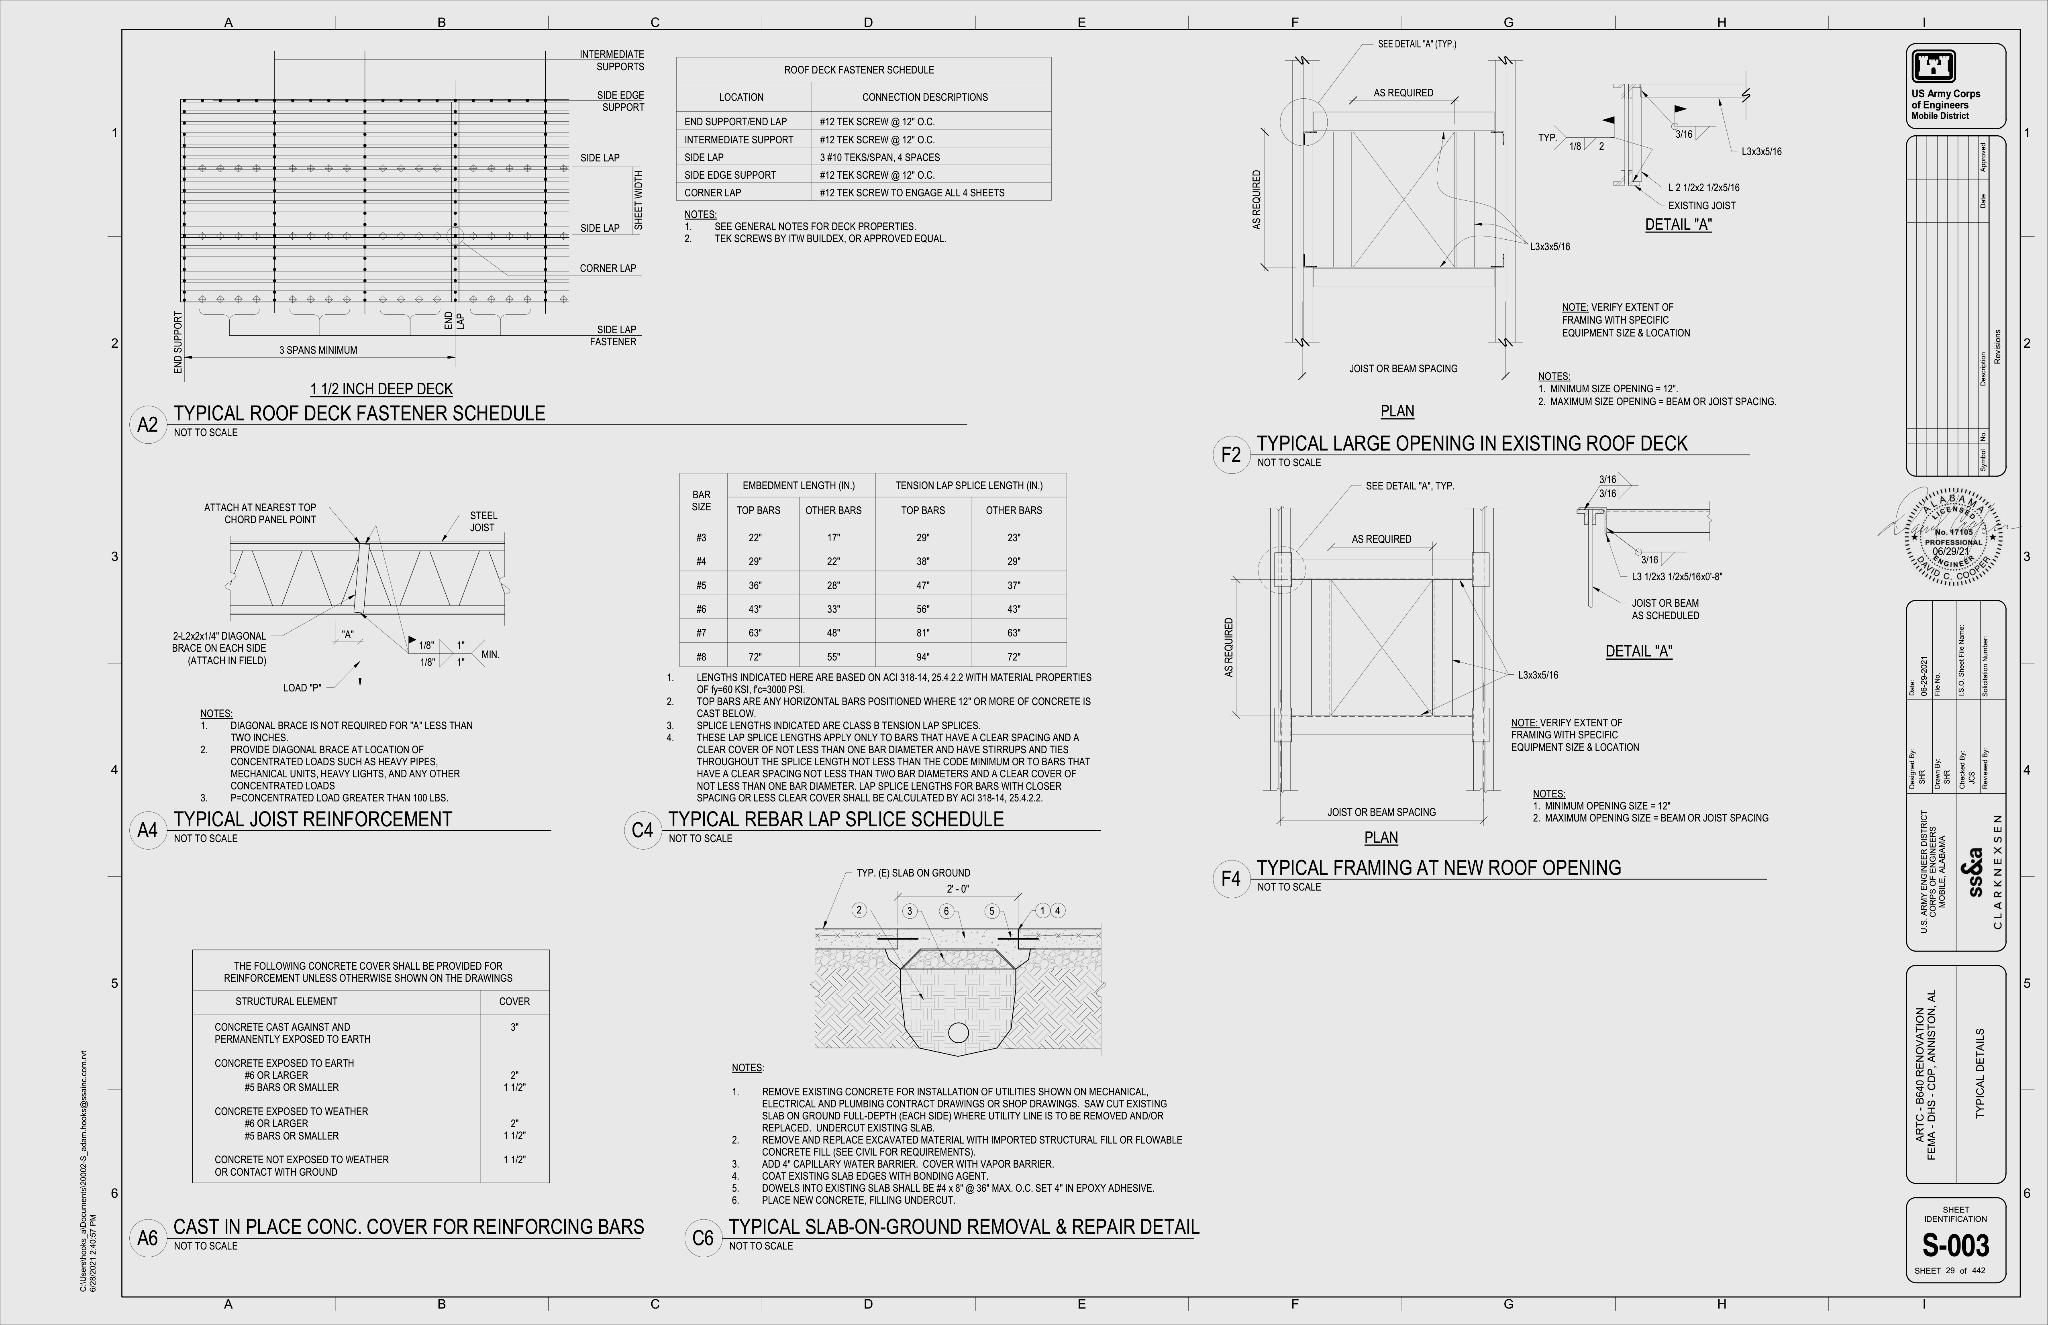title: (124, 398, 976, 451), (1200, 848, 1778, 909), (1200, 425, 1758, 479), (125, 1209, 652, 1262), (681, 1212, 1209, 1262), (618, 804, 1109, 856), (125, 804, 558, 856)
